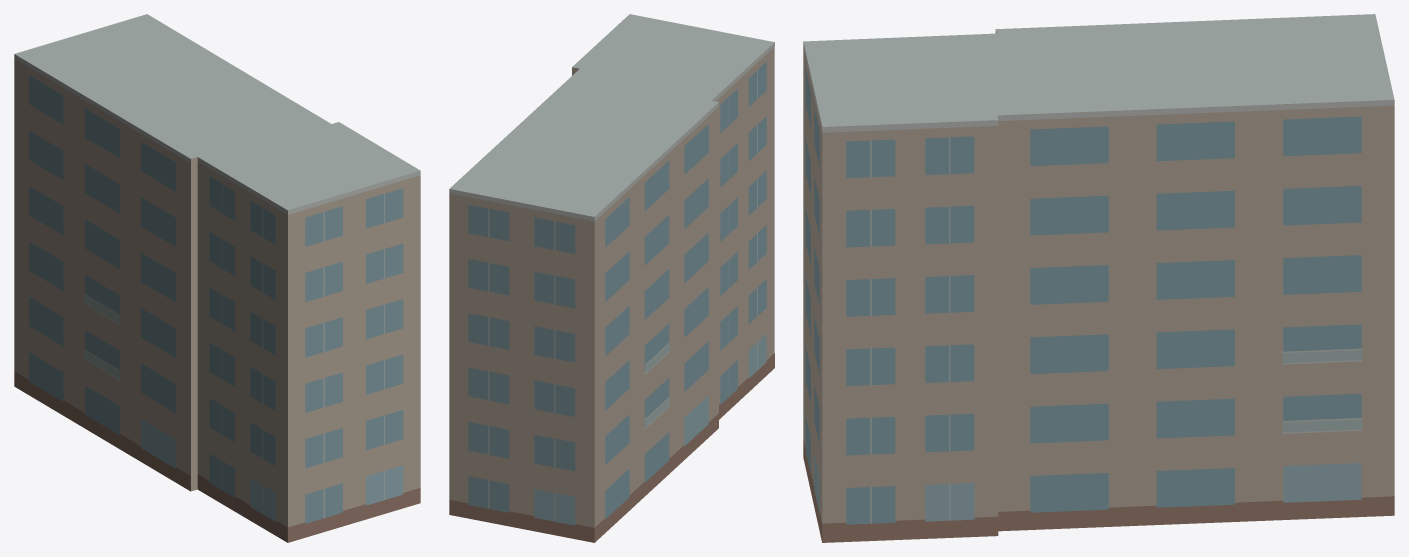
Rendered from survey-upis-33047245.glb.
3 renders of one model, left to right at view 1: azimuth 30°, elevation 25°; view 2: azimuth 150°, elevation 25°; view 3: azimuth 270°, elevation 25°, orthographic. The views are drawn at different scales.
Parts seen in each view (by area): view 1: survey-upis-33047245.tmp; view 2: survey-upis-33047245.tmp; view 3: survey-upis-33047245.tmp.
Boxes of the visible parts, <box> form: survey-upis-33047245.tmp: <box>14,14,420,542</box>; survey-upis-33047245.tmp: <box>449,14,774,542</box>; survey-upis-33047245.tmp: <box>803,14,1394,542</box>.
Bounding box in the file's own units: 10.33 × 17.7 × 22.82.
